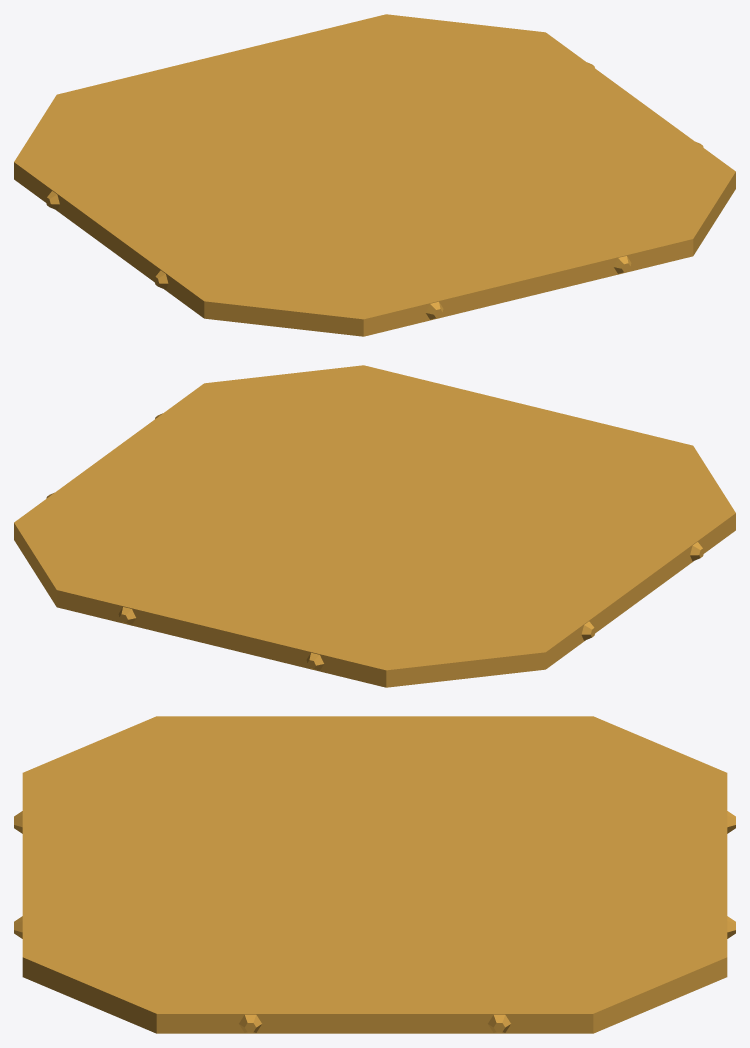
Rendered from FlameKit3.obj.
3 renders of one model, top to bottom at view 1: azimuth 30°, elevation 25°; view 2: azimuth 150°, elevation 25°; view 3: azimuth 270°, elevation 25°, orthographic. The views are drawn at different scales.
Visible parts, largest first — view 1: FlameKit3; view 2: FlameKit3; view 3: FlameKit3.
Part boxes in pixels (bbox=[...]): FlameKit3: bbox=[14, 14, 735, 336]; FlameKit3: bbox=[14, 365, 735, 687]; FlameKit3: bbox=[14, 716, 735, 1033].
Size of the model in its own units: 0.986 by 0.03 by 0.986.
